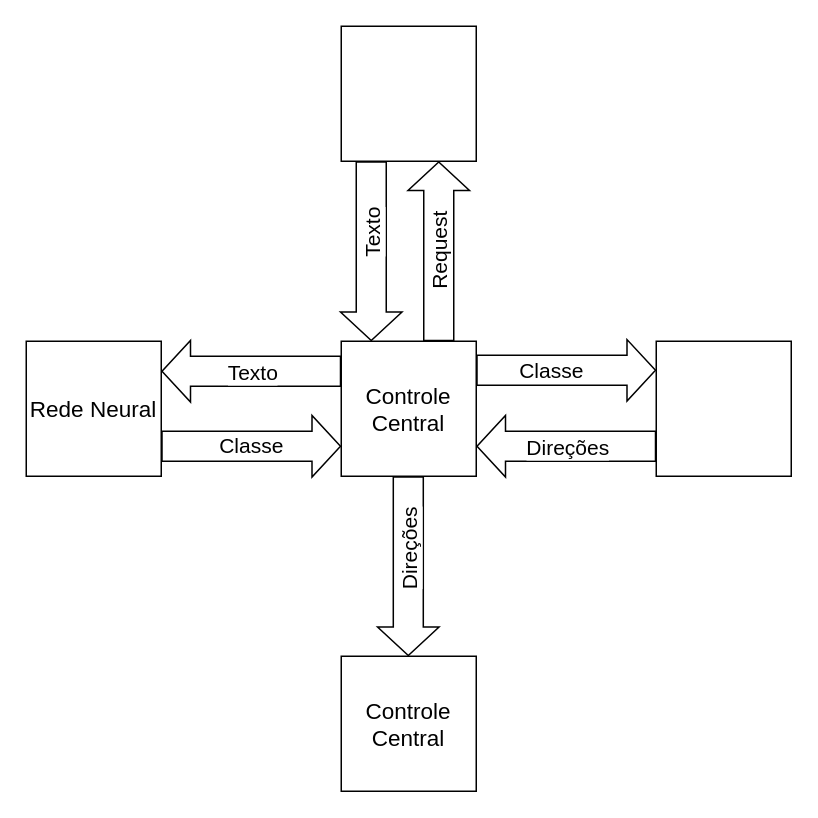
This 818x818 diagram has some shape labels left out. Each missing label, with the box of its shape:
Audio Module: (340, 25, 476, 161)
CNN: (655, 340, 791, 476)
